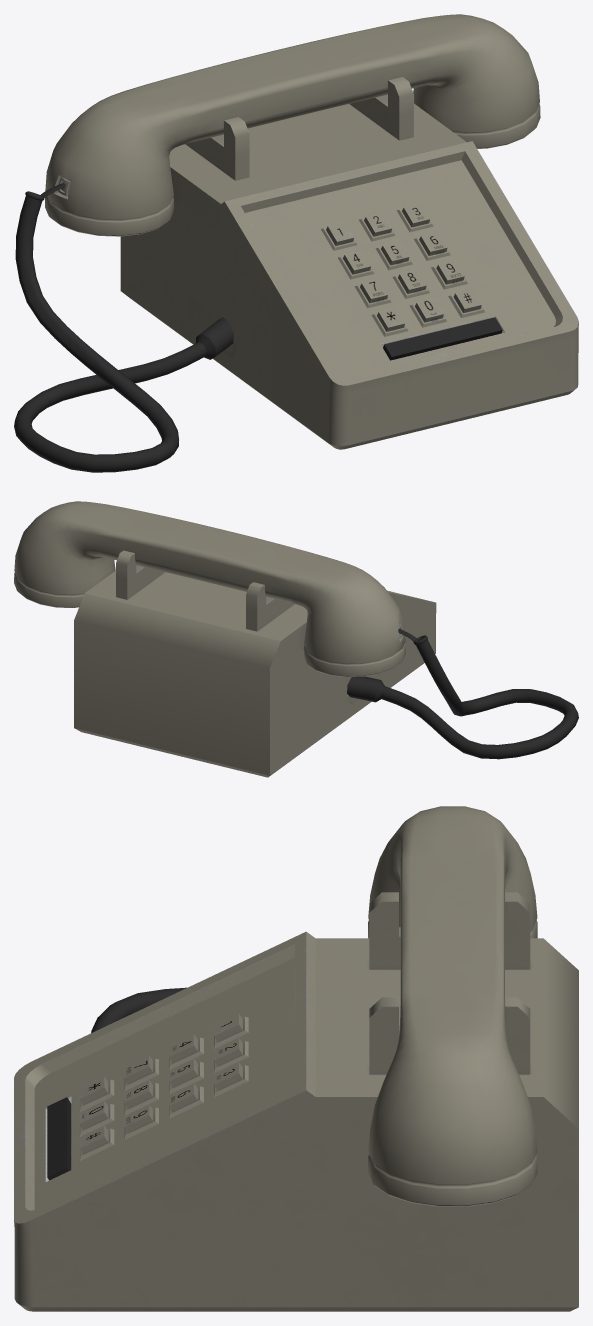
Rendered from phone.glb.
3 renders of one model, top to bottom at view 1: azimuth 30°, elevation 25°; view 2: azimuth 150°, elevation 25°; view 3: azimuth 270°, elevation 25°, orthographic. The views are drawn at different scales.
Visible parts, largest first — view 1: Sm_Phone01; view 2: Sm_Phone01; view 3: Sm_Phone01.
Boxes of the visible parts, x1,y1,x2,y2 form: Sm_Phone01: (14, 14, 578, 472); Sm_Phone01: (14, 501, 578, 777); Sm_Phone01: (14, 806, 578, 1311).
Bounding box in the file's own units: 0.3287 × 0.1267 × 0.2065.
1 material, 1 textured.
